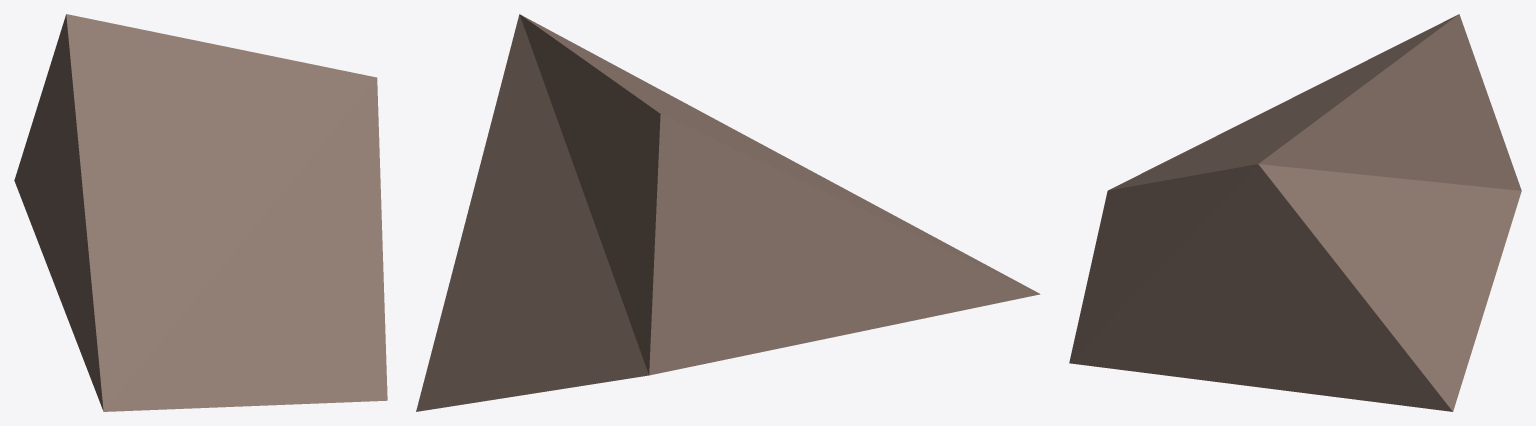
Rendered from RockLarge3.fbx.
3 views of the same model, side by side, from view 1: azimuth 30°, elevation 25°; view 2: azimuth 150°, elevation 25°; view 3: azimuth 270°, elevation 25° (orthographic). The views are drawn at different scales.
Parts seen in each view (by area): view 1: RockLarge3; view 2: RockLarge3; view 3: RockLarge3.
Part boxes in pixels (box(x1,y1,x2,y2)): RockLarge3: box(14, 14, 387, 411); RockLarge3: box(416, 14, 1040, 411); RockLarge3: box(1069, 14, 1521, 411).
Bounding box in the file's own units: 2.74 × 2.2 × 3.02.
